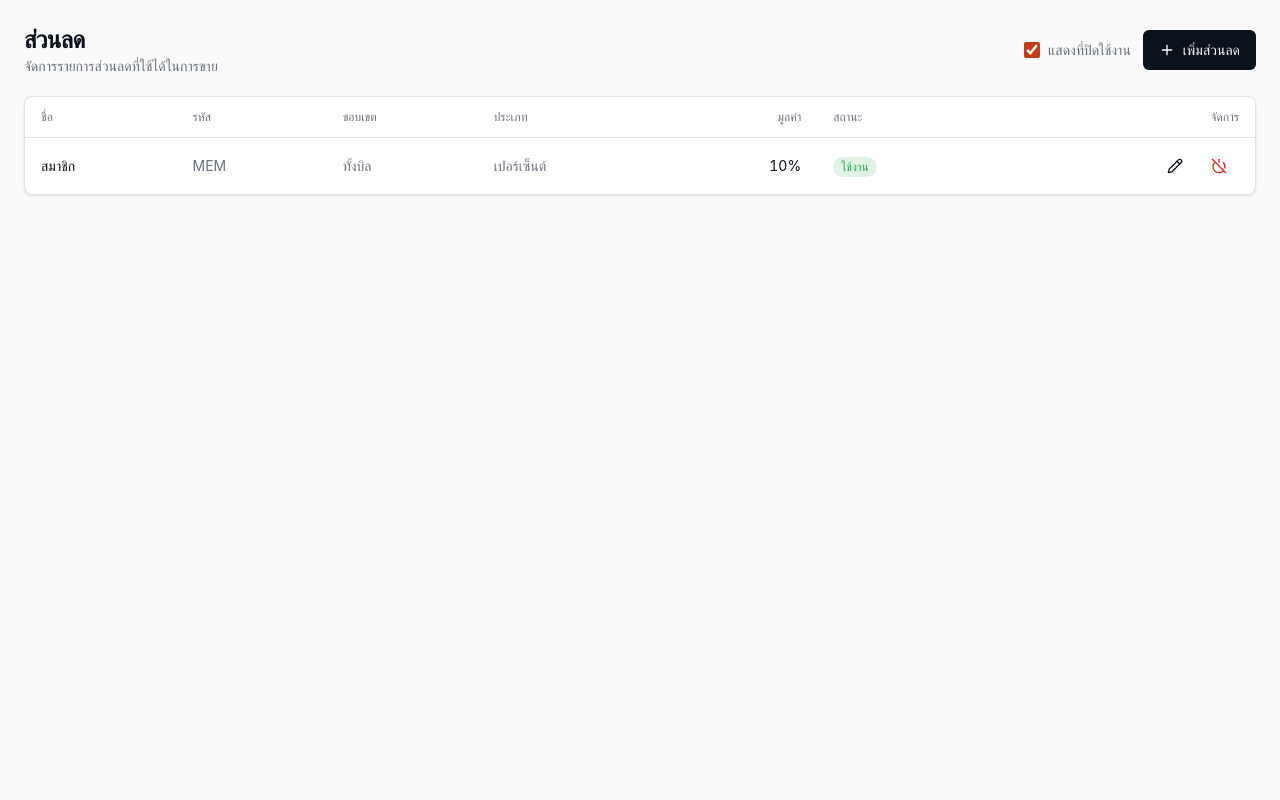
DiscountsPage › opens the create dialog
Click the button "เพิ่มส่วนลด". click: x=1199, y=50
box: 1143,30 -> 1256,70
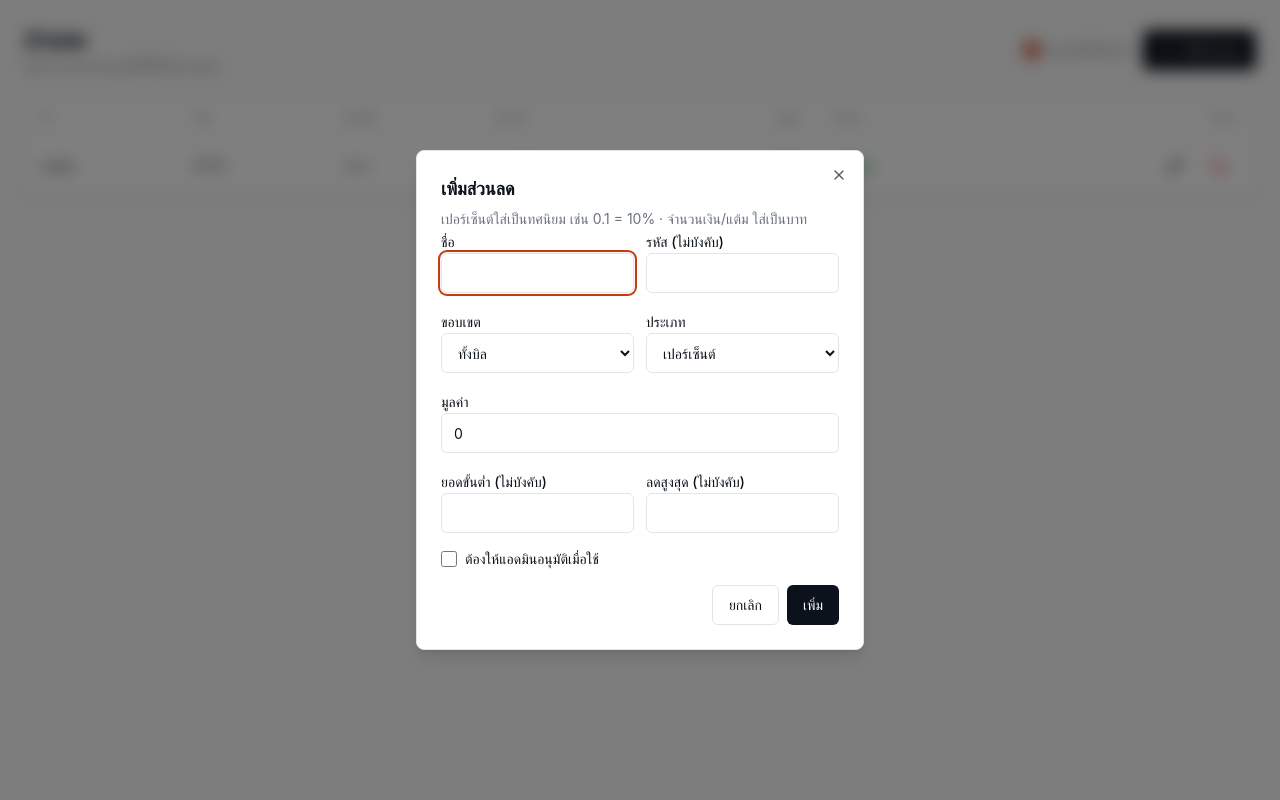
Result: the dialog is shown at 416,150 -> 864,650
